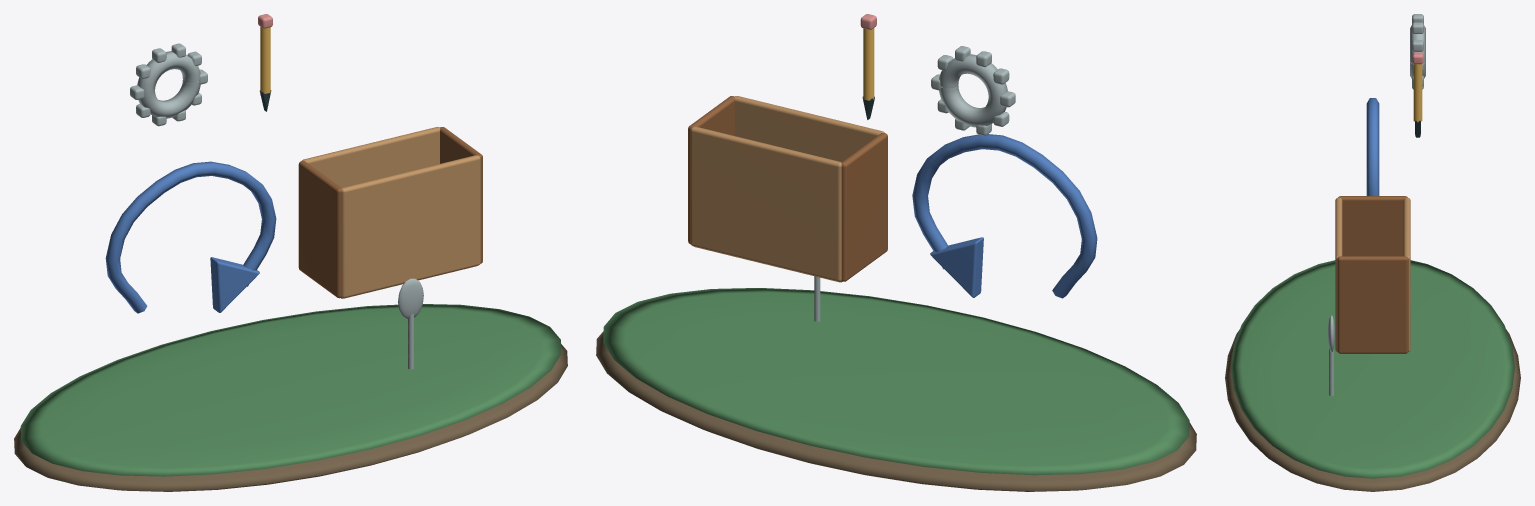
Rendered from complete-third-repeated-mixture.glb.
The picture shows the model from 3 angles, left to right: view 1: azimuth 30°, elevation 25°; view 2: azimuth 150°, elevation 25°; view 3: azimuth 270°, elevation 25°; orthographic projection. The views are drawn at different scales.
Parts seen in each view (by area): view 1: complete-third-repeated-mixture_surface_01, complete-third-repeated-mixture_surface_03, complete-third-repeated-mixture_surface_00, complete-third-repeated-mixture_surface_02, complete-third-repeated-mixture_surface_04, complete-third-repeated-mixture_surface_05, complete-third-repeated-mixture_surface_06; view 2: complete-third-repeated-mixture_surface_01, complete-third-repeated-mixture_surface_03, complete-third-repeated-mixture_surface_00, complete-third-repeated-mixture_surface_02, complete-third-repeated-mixture_surface_04, complete-third-repeated-mixture_surface_05, complete-third-repeated-mixture_surface_06; view 3: complete-third-repeated-mixture_surface_01, complete-third-repeated-mixture_surface_04, complete-third-repeated-mixture_surface_00, complete-third-repeated-mixture_surface_03, complete-third-repeated-mixture_surface_02, complete-third-repeated-mixture_surface_05, complete-third-repeated-mixture_surface_06.
Part boxes in pixels (x1,y1,x2,y2): complete-third-repeated-mixture_surface_01: [20, 304, 561, 476]; complete-third-repeated-mixture_surface_03: [302, 127, 480, 298]; complete-third-repeated-mixture_surface_00: [14, 344, 567, 491]; complete-third-repeated-mixture_surface_02: [105, 161, 276, 313]; complete-third-repeated-mixture_surface_04: [298, 127, 482, 298]; complete-third-repeated-mixture_surface_05: [130, 43, 423, 369]; complete-third-repeated-mixture_surface_06: [260, 27, 270, 93]; complete-third-repeated-mixture_surface_01: [603, 288, 1189, 475]; complete-third-repeated-mixture_surface_03: [690, 96, 884, 281]; complete-third-repeated-mixture_surface_00: [596, 331, 1196, 491]; complete-third-repeated-mixture_surface_02: [912, 134, 1097, 298]; complete-third-repeated-mixture_surface_04: [688, 96, 887, 282]; complete-third-repeated-mixture_surface_05: [814, 46, 1015, 321]; complete-third-repeated-mixture_surface_06: [863, 28, 874, 100]; complete-third-repeated-mixture_surface_01: [1231, 260, 1514, 478]; complete-third-repeated-mixture_surface_04: [1337, 196, 1408, 353]; complete-third-repeated-mixture_surface_00: [1225, 329, 1520, 491]; complete-third-repeated-mixture_surface_03: [1335, 197, 1410, 351]; complete-third-repeated-mixture_surface_02: [1366, 98, 1379, 195]; complete-third-repeated-mixture_surface_05: [1328, 14, 1425, 395]; complete-third-repeated-mixture_surface_06: [1413, 64, 1422, 122].
Size of the model in its own units: 4.56 by 3.15 by 2.5.
